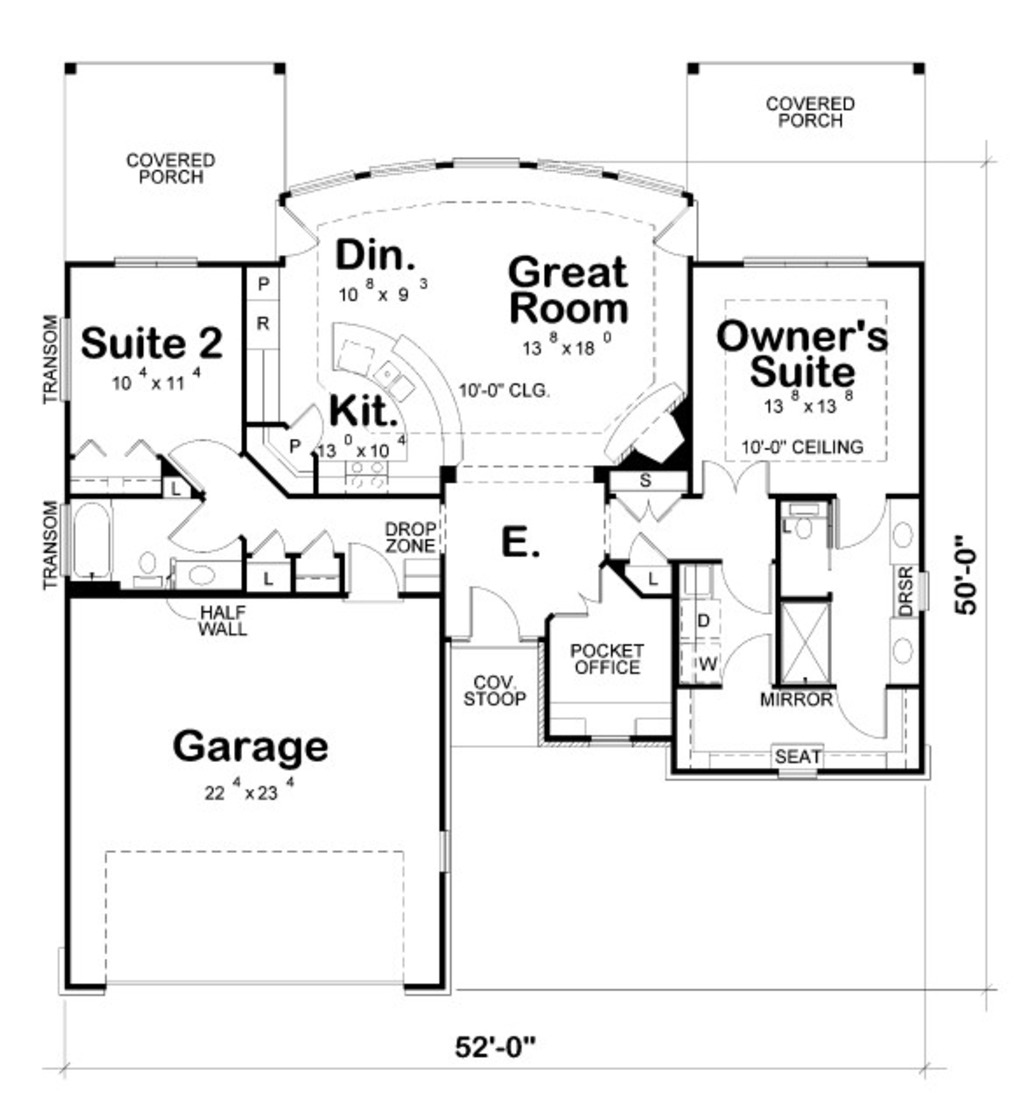door: (440, 582, 540, 660), (159, 487, 239, 567), (587, 473, 690, 533), (155, 420, 244, 488), (645, 185, 712, 270), (547, 560, 620, 638), (255, 193, 325, 270), (715, 630, 780, 705), (337, 545, 415, 605), (834, 678, 905, 743), (689, 445, 765, 503), (720, 545, 779, 618), (830, 483, 889, 552), (289, 393, 339, 462), (240, 515, 289, 568), (294, 522, 335, 582), (622, 525, 672, 563)
large_sink: (774, 493, 830, 557), (112, 543, 170, 593)
small_sink: (875, 495, 930, 578), (885, 610, 922, 677)
tub: (64, 487, 122, 593)
twin_sink: (359, 348, 429, 418)
window: (49, 313, 90, 422), (567, 722, 657, 760), (105, 245, 207, 278), (769, 748, 832, 795), (430, 815, 459, 882), (57, 497, 69, 578)
